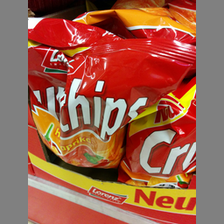chips: (28, 18, 196, 174)
